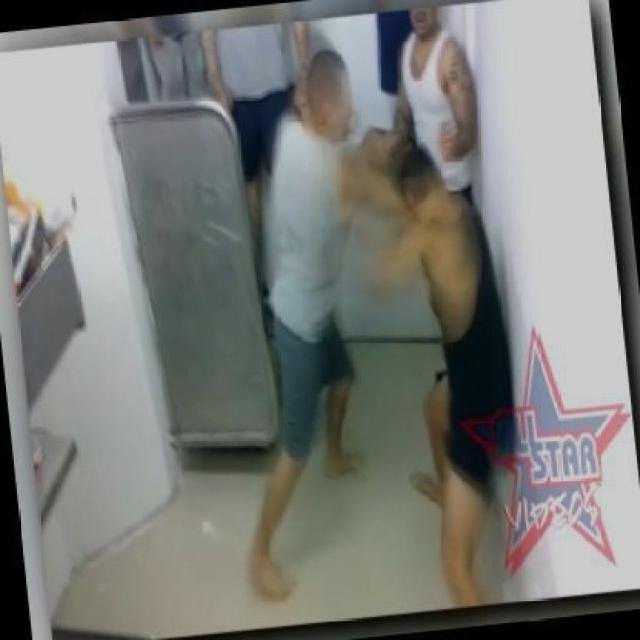fight: (226, 38, 567, 634)
non-fight: (389, 3, 484, 390)
